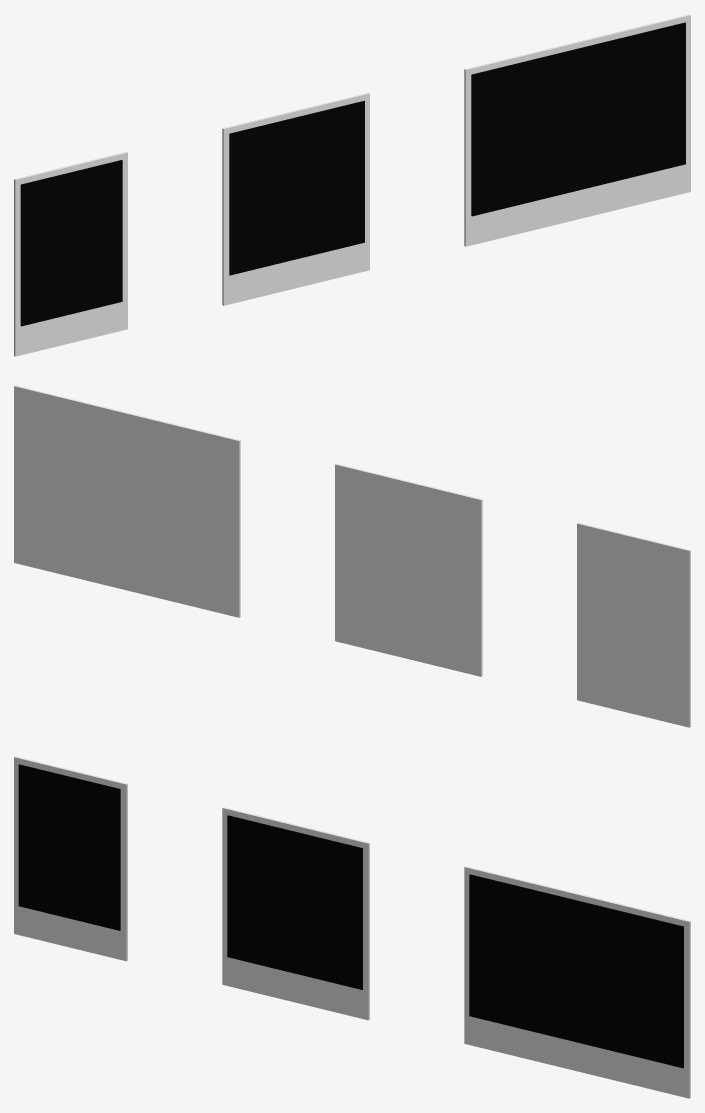
File: polaroids.fbx
3 views of the same model, one above another, from view 1: azimuth 30°, elevation 25°; view 2: azimuth 150°, elevation 25°; view 3: azimuth 330°, elevation 25° (orthographic).
Parts seen in each view (by area): view 1: Plane.002, Plane, Plane.001; view 2: Plane.002, Plane, Plane.001; view 3: Plane.002, Plane, Plane.001.
Part boxes in pixels (left/top/right/bottom): Plane.002: left=464, top=14, right=690, bottom=246; Plane: left=222, top=92, right=369, bottom=305; Plane.001: left=14, top=151, right=127, bottom=356; Plane.002: left=14, top=385, right=240, bottom=617; Plane: left=335, top=463, right=482, bottom=676; Plane.001: left=577, top=522, right=690, bottom=727; Plane.002: left=464, top=866, right=690, bottom=1098; Plane: left=222, top=807, right=369, bottom=1020; Plane.001: left=14, top=756, right=127, bottom=961.
Size of the model in its own units: 60 by 15 by 0.3.
Materials: 1 (1 with a texture image).
